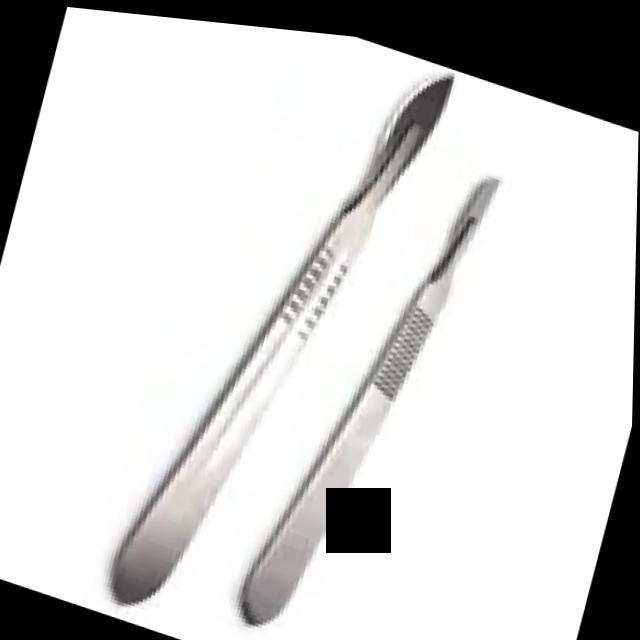Knife handle: (91, 54, 422, 640), (235, 164, 470, 640)
